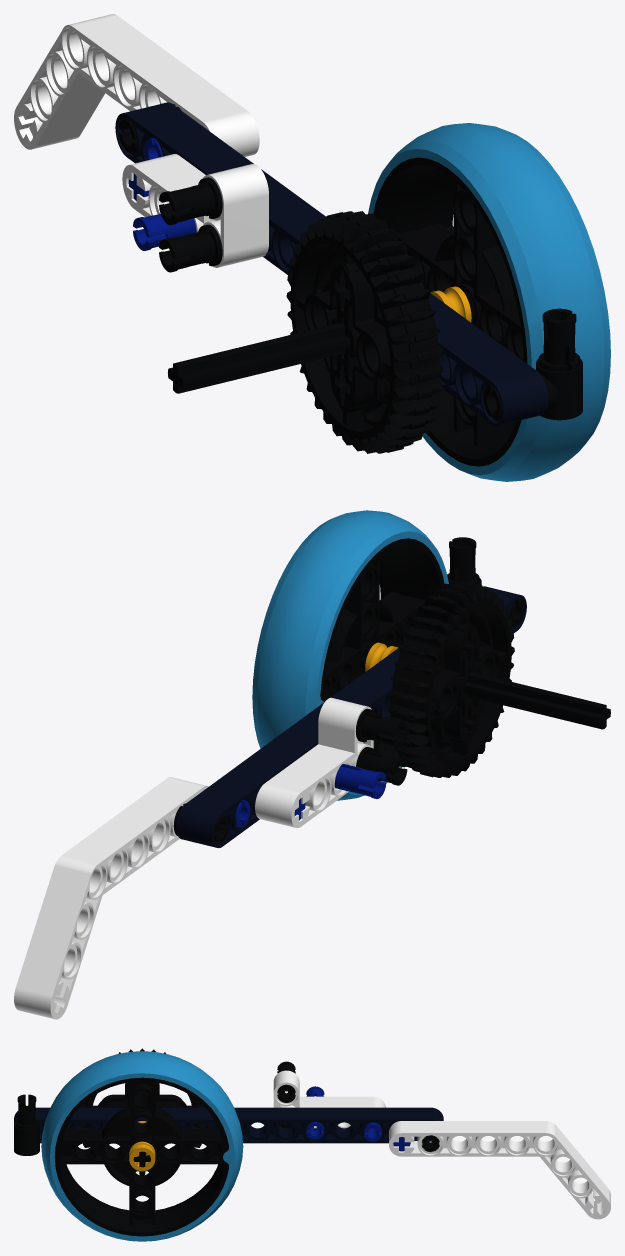
File: linkerkant.obj
3 renders of one model, top to bottom at view 1: azimuth 30°, elevation 25°; view 2: azimuth 150°, elevation 25°; view 3: azimuth 270°, elevation 25°, orthographic. The views are drawn at different scales.
Bounding box in the file's own units: 160 × 140 × 414.
